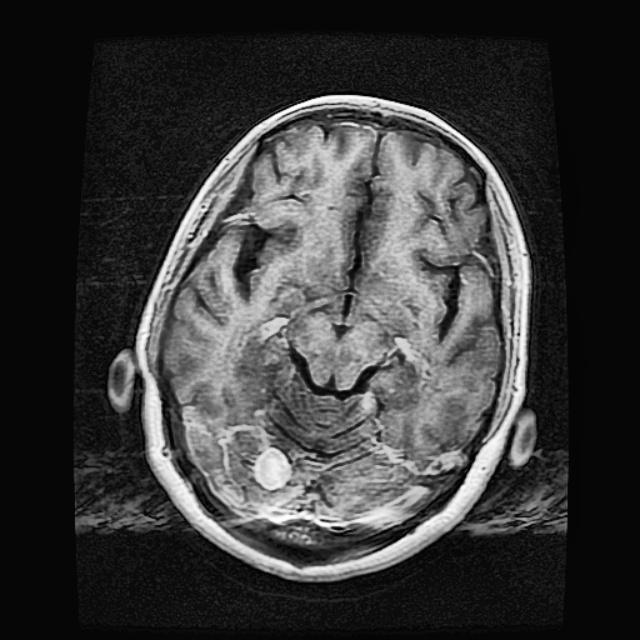Glioma: (254, 448, 290, 490)
